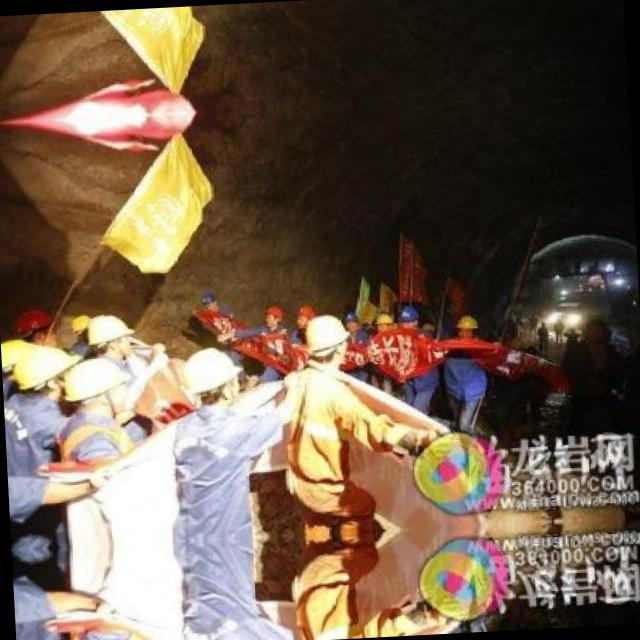helmet: (59, 348, 138, 423), (179, 340, 249, 420), (14, 346, 74, 398), (302, 312, 348, 370), (87, 312, 132, 359), (16, 306, 55, 345), (453, 314, 480, 342), (292, 302, 314, 331), (371, 308, 392, 338), (262, 306, 286, 330), (341, 307, 362, 333), (396, 303, 416, 328), (200, 291, 220, 314)
